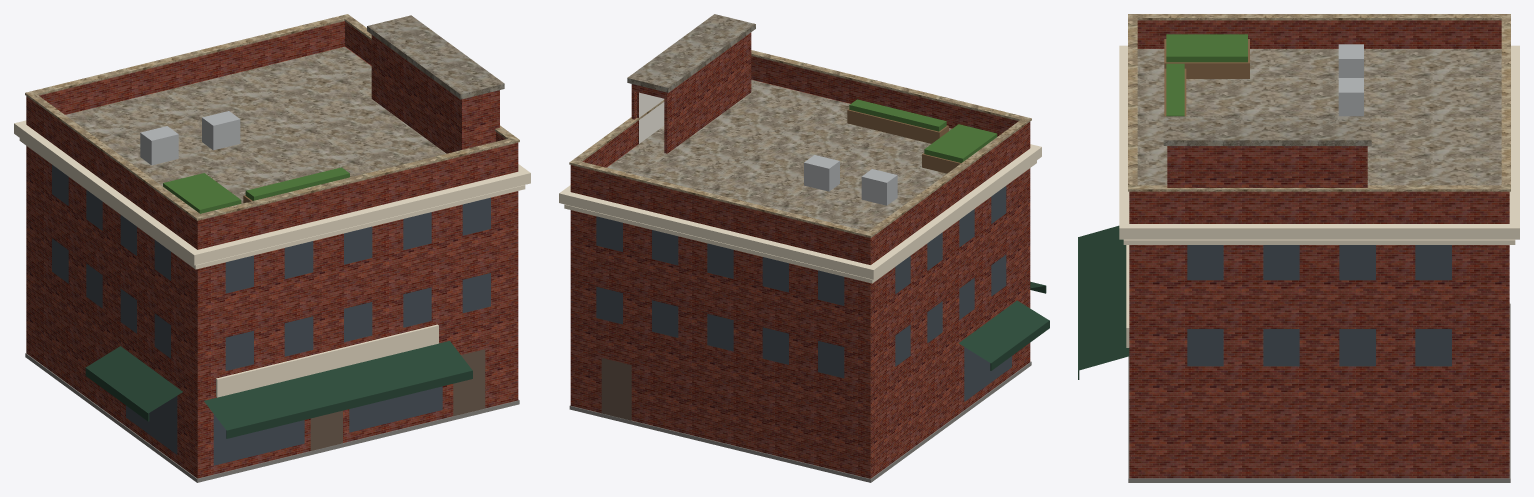
File: ns-corner-store.towns-v1.lod1.glb
3 renders of one model, left to right at view 1: azimuth 30°, elevation 25°; view 2: azimuth 150°, elevation 25°; view 3: azimuth 270°, elevation 25°, orthographic. The views are drawn at different scales.
Parts seen in each view (by area): view 1: ns-corner-store; view 2: ns-corner-store; view 3: ns-corner-store.
Boxes of the visible parts, x1,y1,x2,y2 form: ns-corner-store: [14, 14, 530, 482]; ns-corner-store: [559, 14, 1049, 482]; ns-corner-store: [1078, 14, 1519, 482].
Bounding box in the file's own units: 14.74 × 11.95 × 13.94.
Materials: 3 (2 with a texture image).
